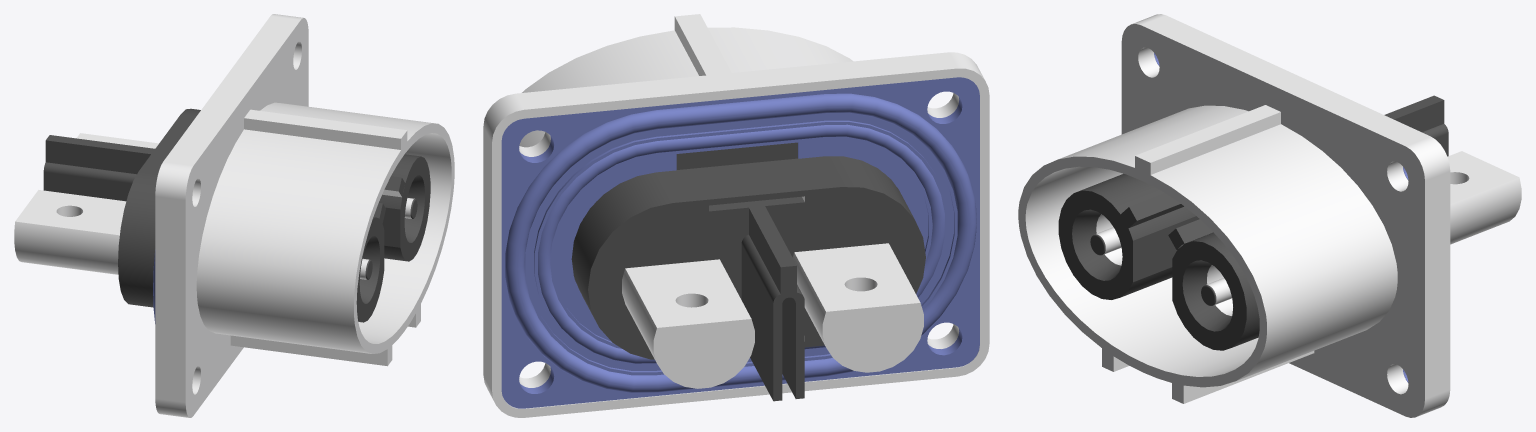
The model's file is GYHF-2-200Z-A.glb.
3 renders of one model, left to right at view 1: azimuth 30°, elevation 25°; view 2: azimuth 150°, elevation 25°; view 3: azimuth 270°, elevation 25°, orthographic. The views are drawn at different scales.
Visible parts, largest first — view 1: GYHF-2-200Z-A v6; view 2: GYHF-2-200Z-A v6; view 3: GYHF-2-200Z-A v6.
Boxes of the visible parts, bbox=[...] form: GYHF-2-200Z-A v6: bbox=[14, 14, 454, 417]; GYHF-2-200Z-A v6: bbox=[483, 14, 989, 417]; GYHF-2-200Z-A v6: bbox=[1018, 14, 1521, 417].
Bounding box in the file's own units: 8.68 × 5.2 × 8.78.
